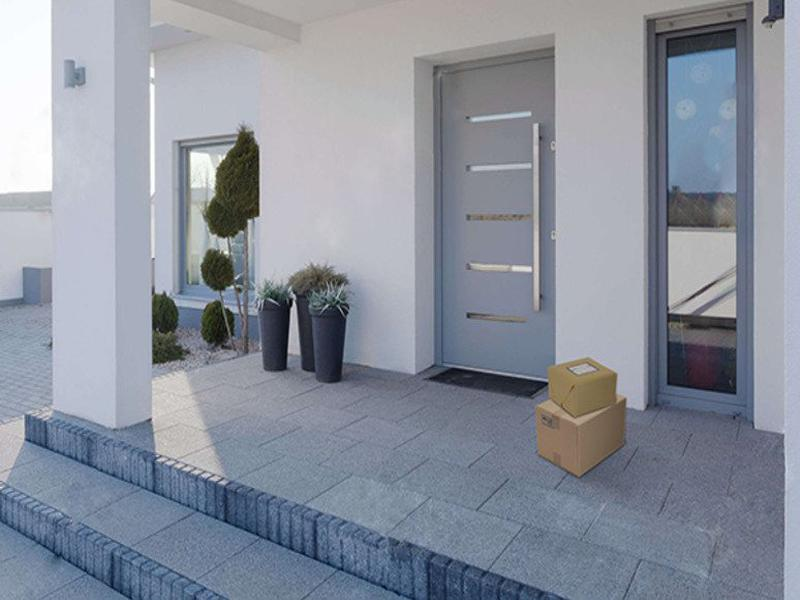package: (533, 397, 631, 480), (543, 354, 620, 420)
